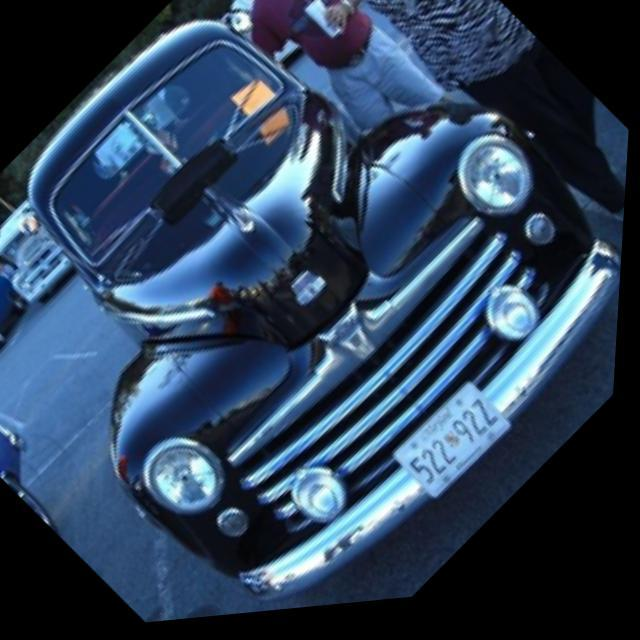license_plate: (391, 386, 519, 516)
